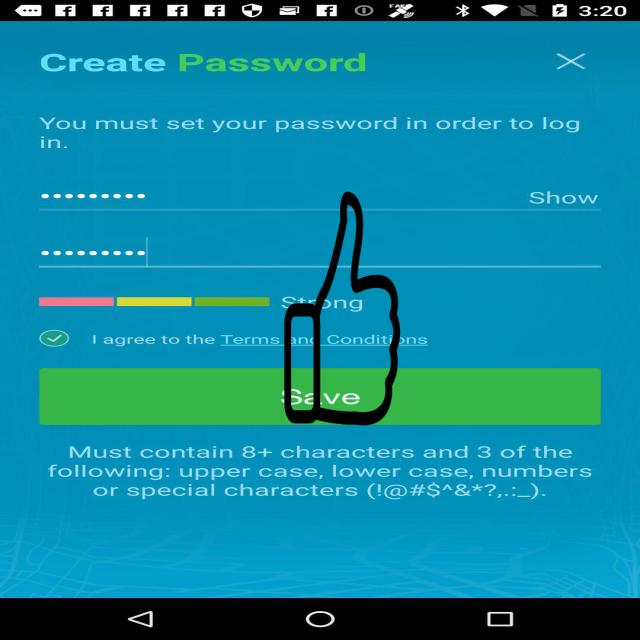privacy zuckering: (283, 192, 402, 425)
